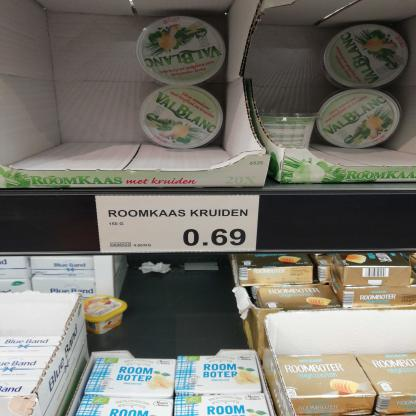prtg: (96, 196, 260, 253)
